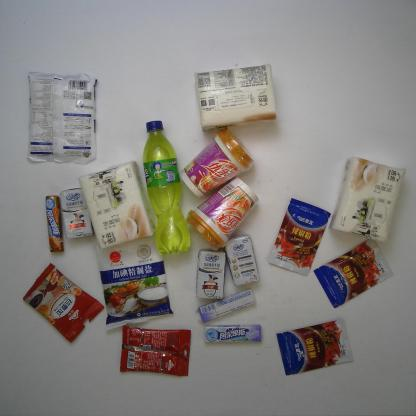Candy: (198, 288, 256, 322), (204, 323, 263, 343), (45, 193, 64, 252)
Drink: (143, 120, 191, 256)
Instant Drink: (22, 262, 105, 343), (178, 126, 256, 200), (185, 176, 260, 252), (119, 324, 192, 376)
Milk: (224, 232, 260, 287), (59, 187, 94, 239), (196, 247, 226, 299)
Seasoner: (94, 238, 174, 331), (27, 71, 99, 165), (313, 237, 394, 309), (268, 198, 332, 276), (276, 316, 354, 377)
Tissue: (78, 160, 157, 250), (328, 155, 406, 244), (194, 63, 277, 133)
